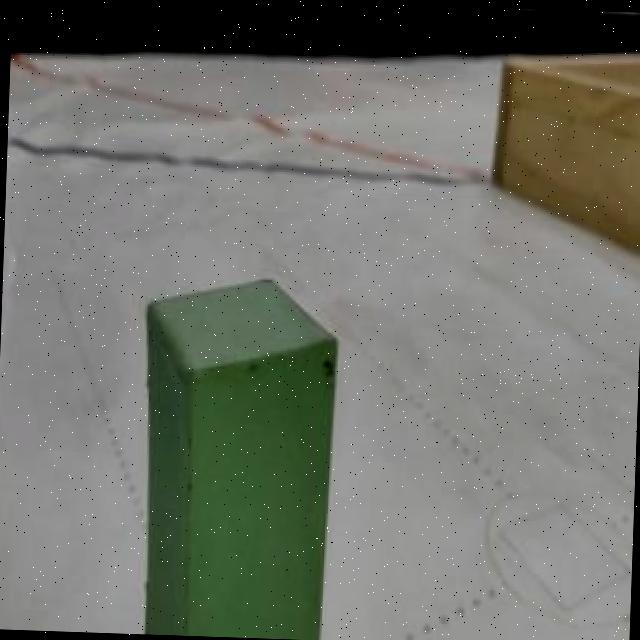greenbox: (130, 265, 347, 640)
